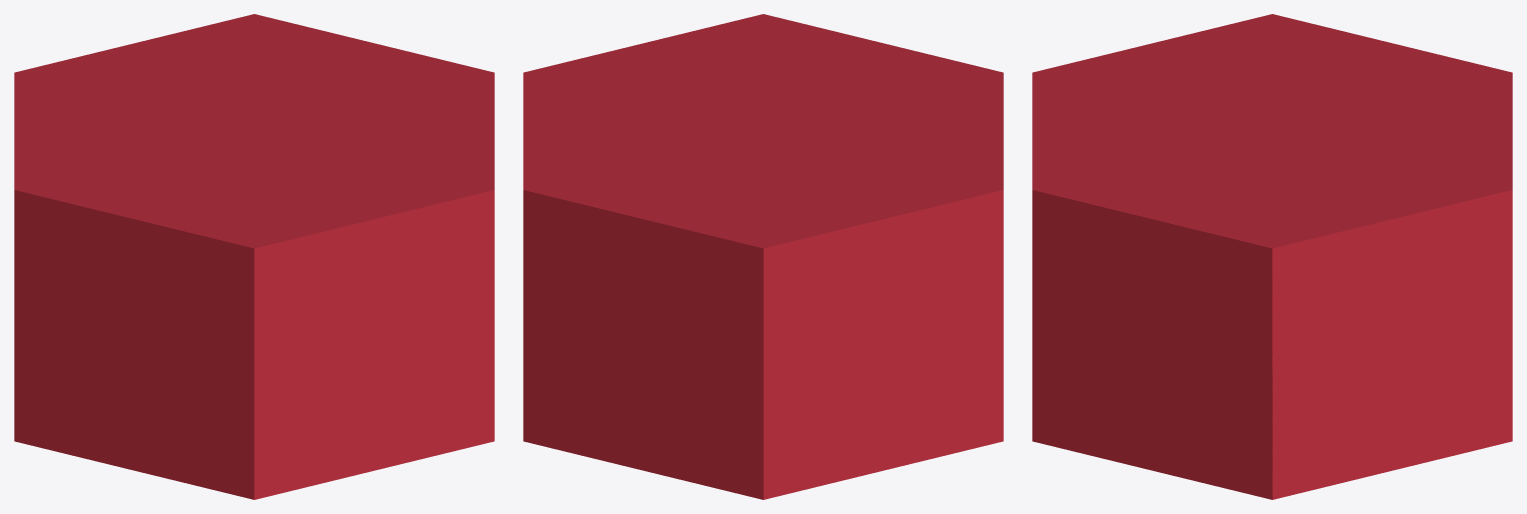
The model's file is Item3.dae.
3 views of the same model, side by side, from view 1: azimuth 30°, elevation 25°; view 2: azimuth 150°, elevation 25°; view 3: azimuth 270°, elevation 25° (orthographic).
Parts seen in each view (by area): view 1: ID11, ID19; view 2: ID11, ID19; view 3: ID11, ID19.
Boxes of the visible parts, x1,y1,x2,y2 form: ID11: (14, 190, 494, 499); ID19: (14, 14, 494, 248); ID11: (523, 190, 1003, 499); ID19: (523, 14, 1003, 248); ID11: (1032, 190, 1512, 499); ID19: (1032, 14, 1512, 248).
Bounding box in the file's own units: 0.25 × 0.125 × 0.2165.
